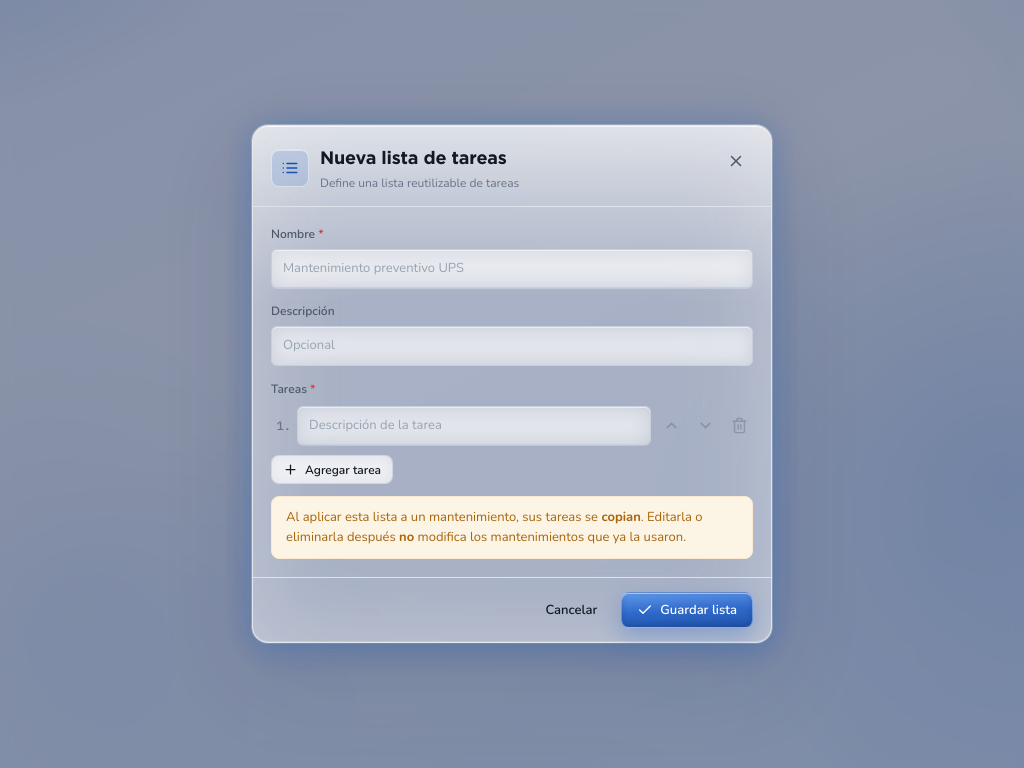
Test: ChecklistTemplateFormModal › validacion › no envia una lista sin ninguna tarea
Type "Lista vacía" into the field with placeholder "Mantenimiento preventivo UPS" at (512, 269), box left=271, top=249, right=753, bottom=288
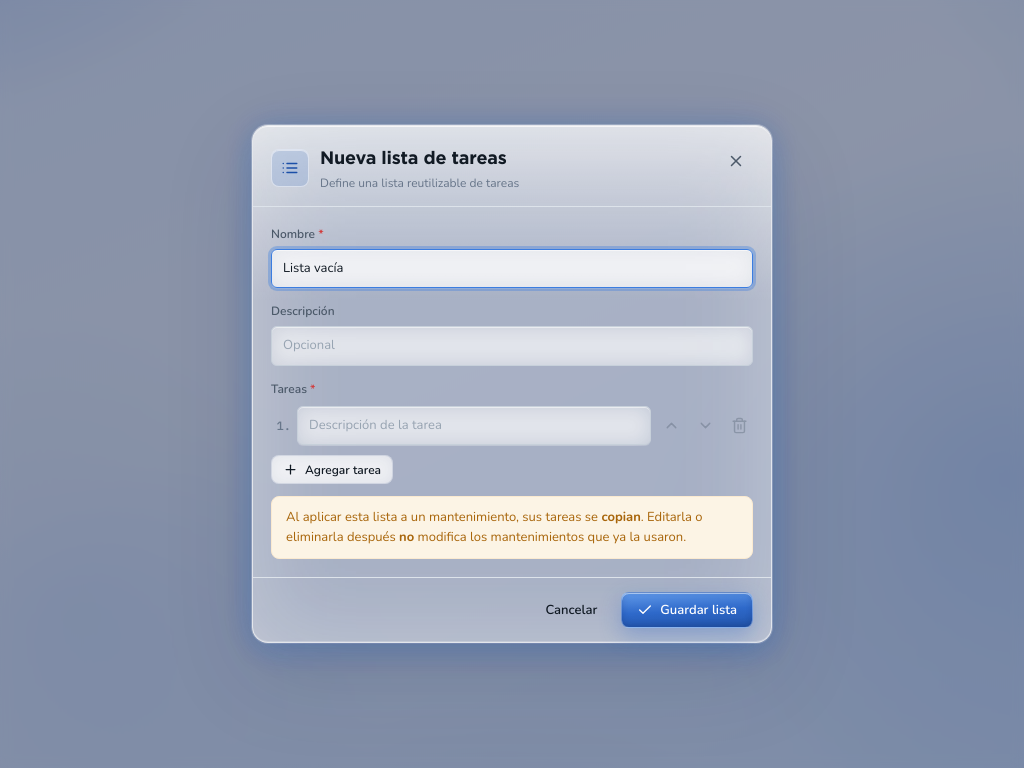
Click the button "Guardar lista" at (687, 610), box left=621, top=592, right=753, bottom=628
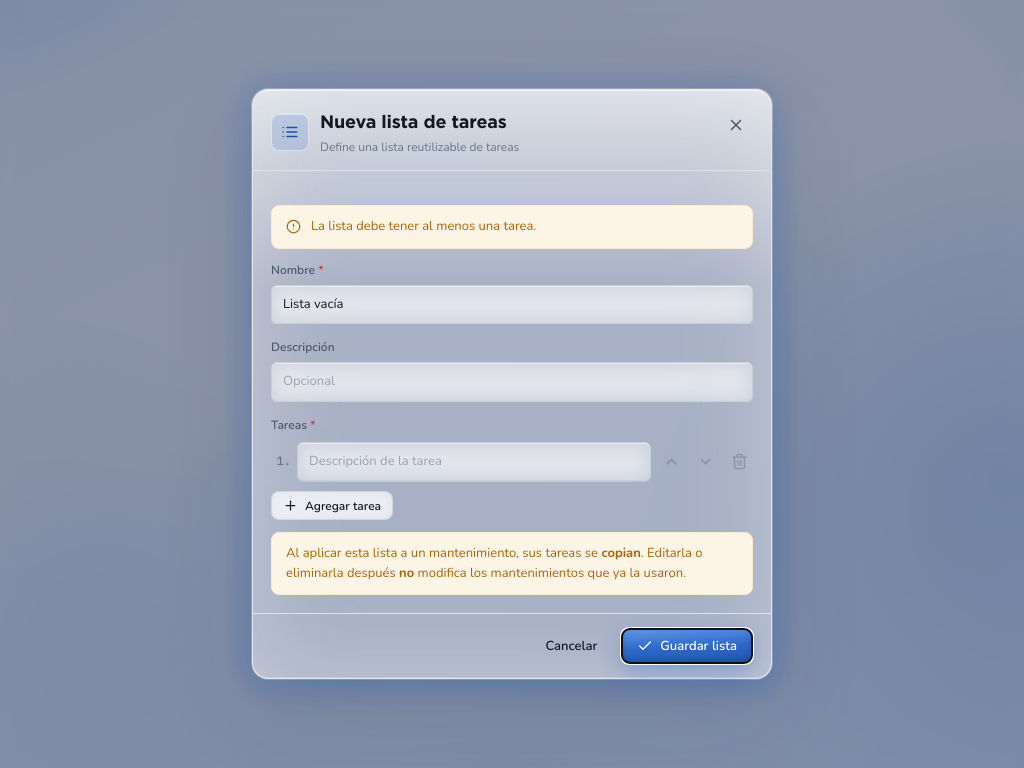
Now the text "La lista debe tener al menos una tarea." is shown, box left=311, top=217, right=536, bottom=236
